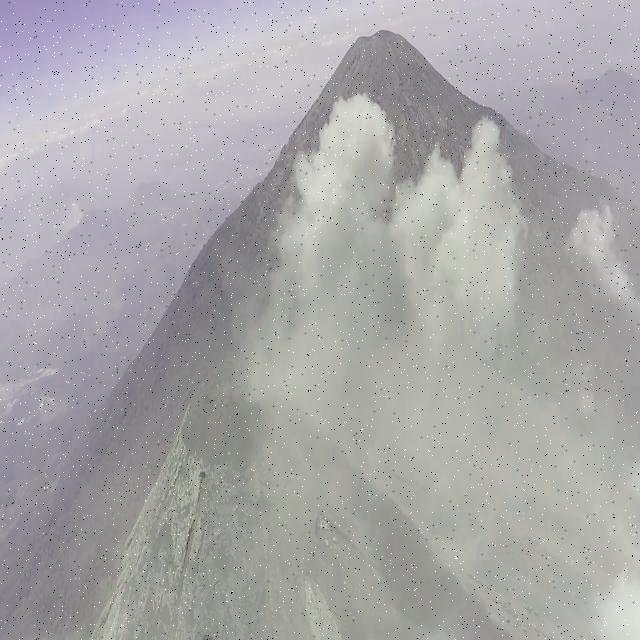Plume: (241, 96, 516, 402)
Summit: (60, 360, 638, 640)
